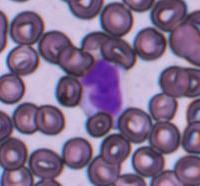M: (76, 57, 126, 117)
